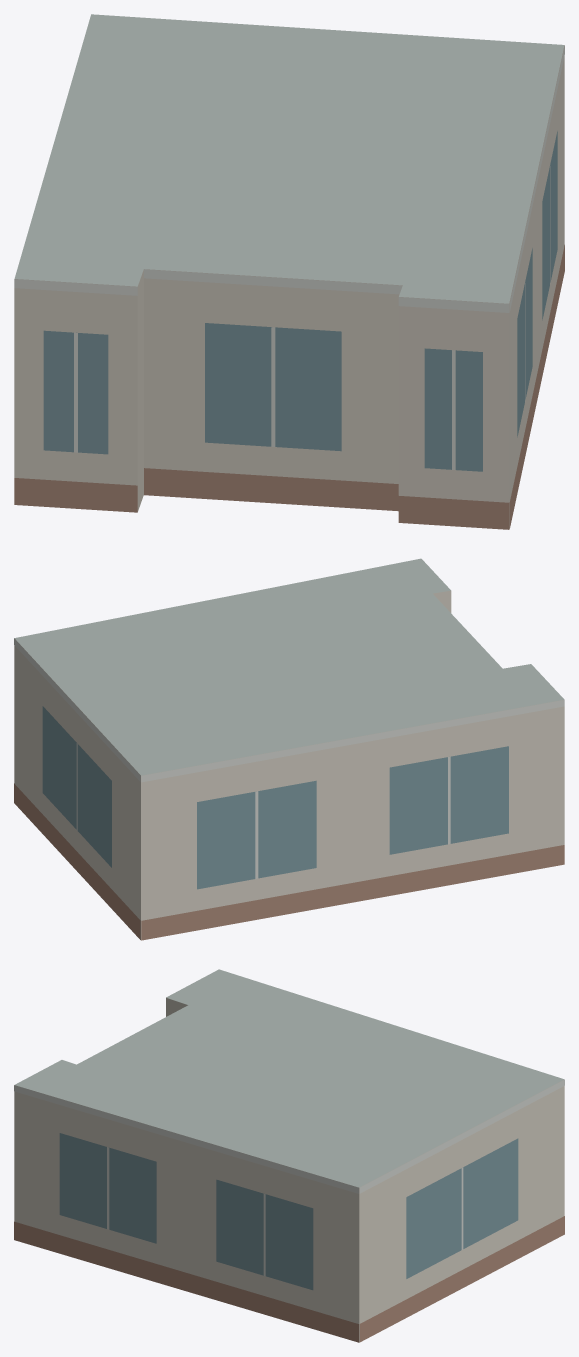
The model's file is survey-upis-32761262.glb.
3 renders of one model, top to bottom at view 1: azimuth 30°, elevation 25°; view 2: azimuth 150°, elevation 25°; view 3: azimuth 270°, elevation 25°, orthographic. The views are drawn at different scales.
Parts seen in each view (by area): view 1: survey-upis-32761262.tmp; view 2: survey-upis-32761262.tmp; view 3: survey-upis-32761262.tmp.
Boxes of the visible parts, <box> form: survey-upis-32761262.tmp: <box>14,14,564,529</box>; survey-upis-32761262.tmp: <box>14,558,564,940</box>; survey-upis-32761262.tmp: <box>14,969,564,1342</box>.
Bounding box in the file's own units: 9.23 × 3.05 × 9.83.
